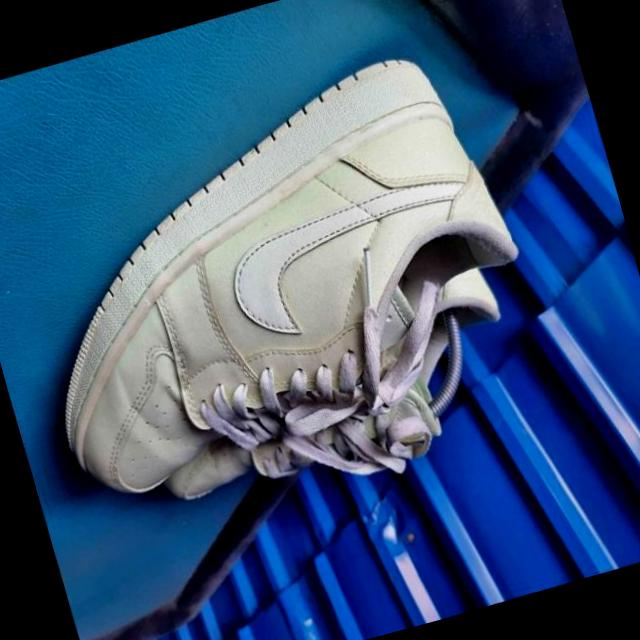nike_fake_jordan: (0, 31, 559, 516)
